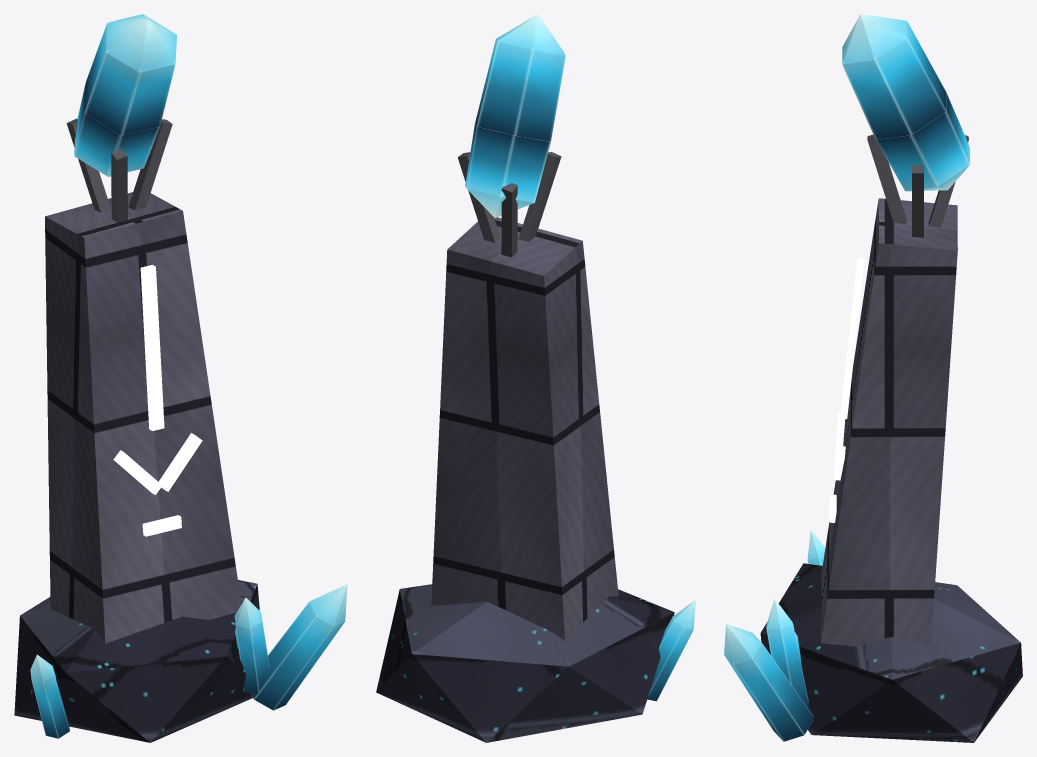
File: lodestone_waymarker.glb
The picture shows the model from 3 angles, left to right: view 1: azimuth 30°, elevation 25°; view 2: azimuth 150°, elevation 25°; view 3: azimuth 270°, elevation 25°; orthographic projection. The views are drawn at different scales.
Visible parts, largest first — view 1: lodestone_waymarker; view 2: lodestone_waymarker; view 3: lodestone_waymarker.
Part boxes in pixels (left/top/right/bottom): lodestone_waymarker: left=14, top=14, right=347, bottom=742; lodestone_waymarker: left=376, top=14, right=695, bottom=742; lodestone_waymarker: left=724, top=14, right=1022, bottom=742.
Bounding box in the file's own units: 0.9185 × 2.23 × 0.8695.
6 materials, 4 textured.
